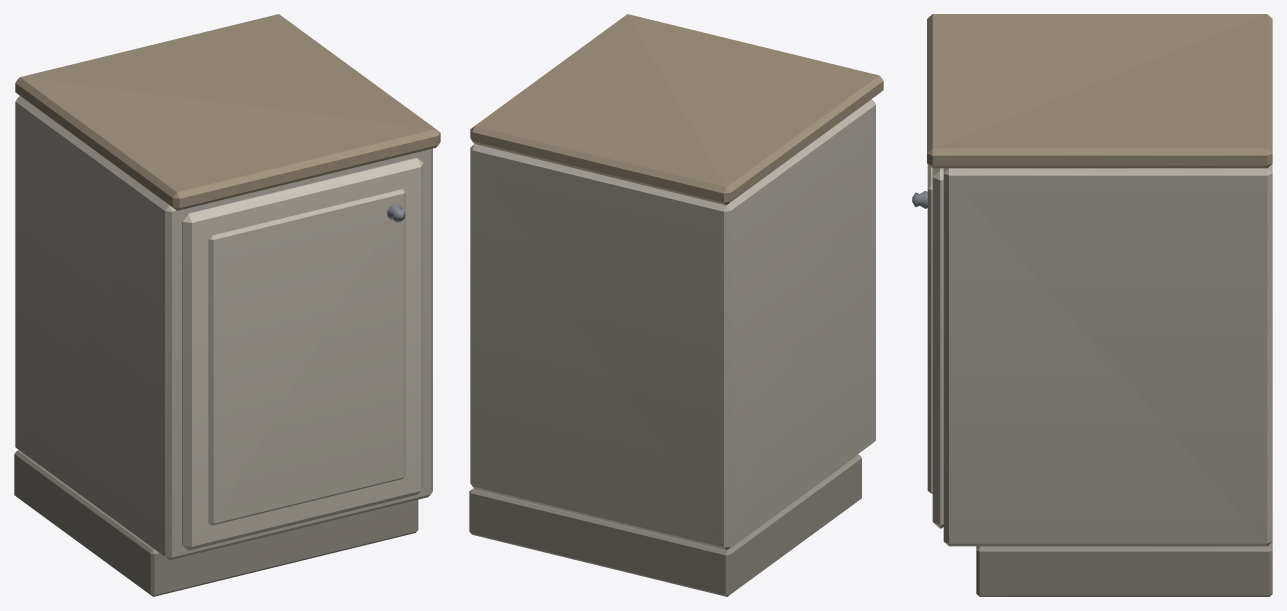
File: base_cabinet_door.glb
The picture shows the model from 3 angles, left to right: view 1: azimuth 30°, elevation 25°; view 2: azimuth 150°, elevation 25°; view 3: azimuth 270°, elevation 25°; orthographic projection. The views are drawn at different scales.
Parts seen in each view (by area): view 1: base_cabinet_door; view 2: base_cabinet_door; view 3: base_cabinet_door.
Part boxes in pixels (x1,y1,x2,y2): base_cabinet_door: [14, 14, 440, 596]; base_cabinet_door: [469, 14, 883, 596]; base_cabinet_door: [912, 14, 1272, 596].
Size of the model in its own units: 0.6 by 0.9 by 0.657.
